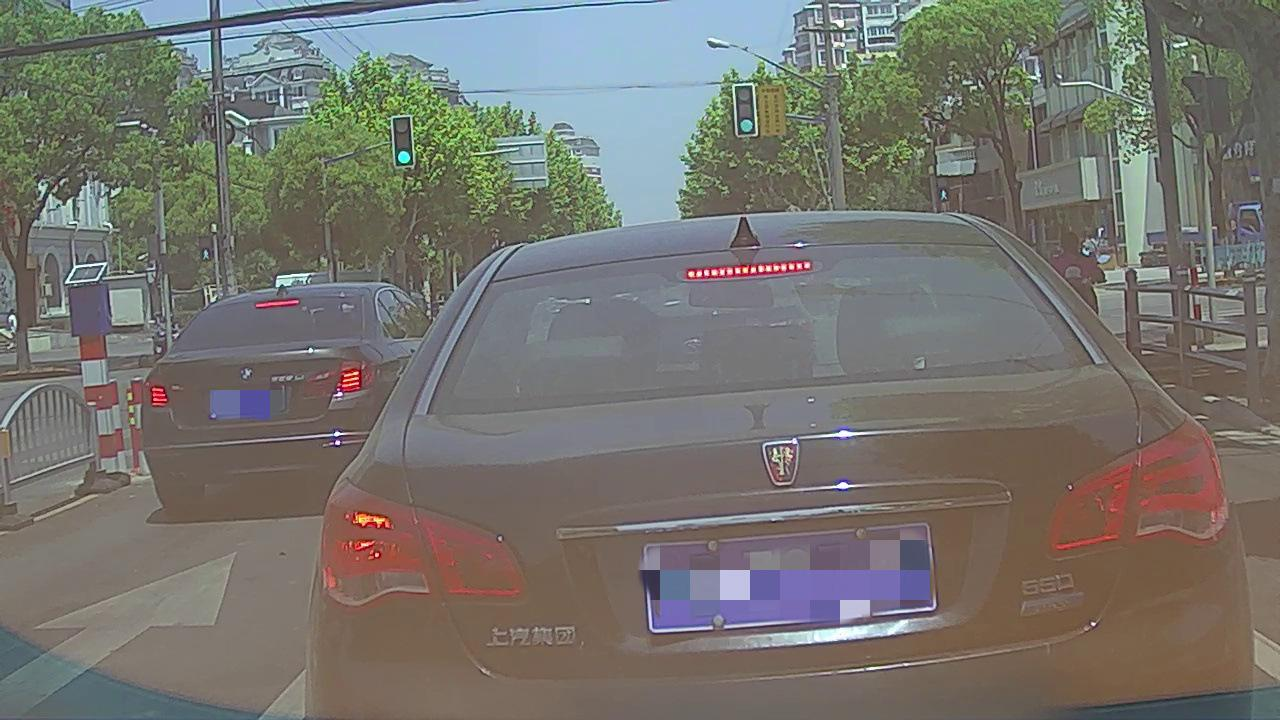traffic_light: (734, 86, 756, 134), (393, 118, 414, 166)
